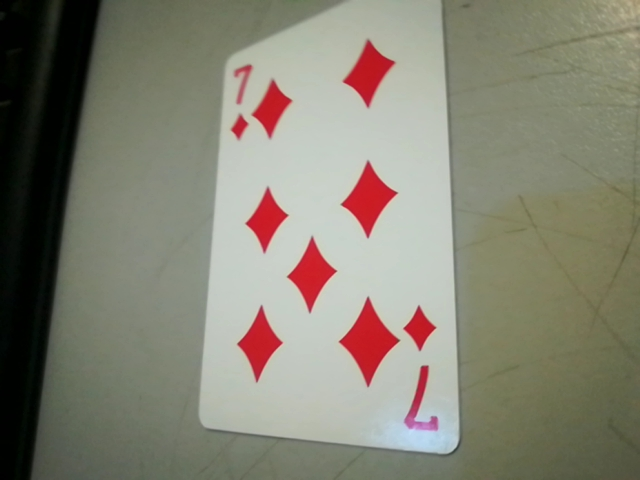fk 7: (396, 297, 451, 446)
